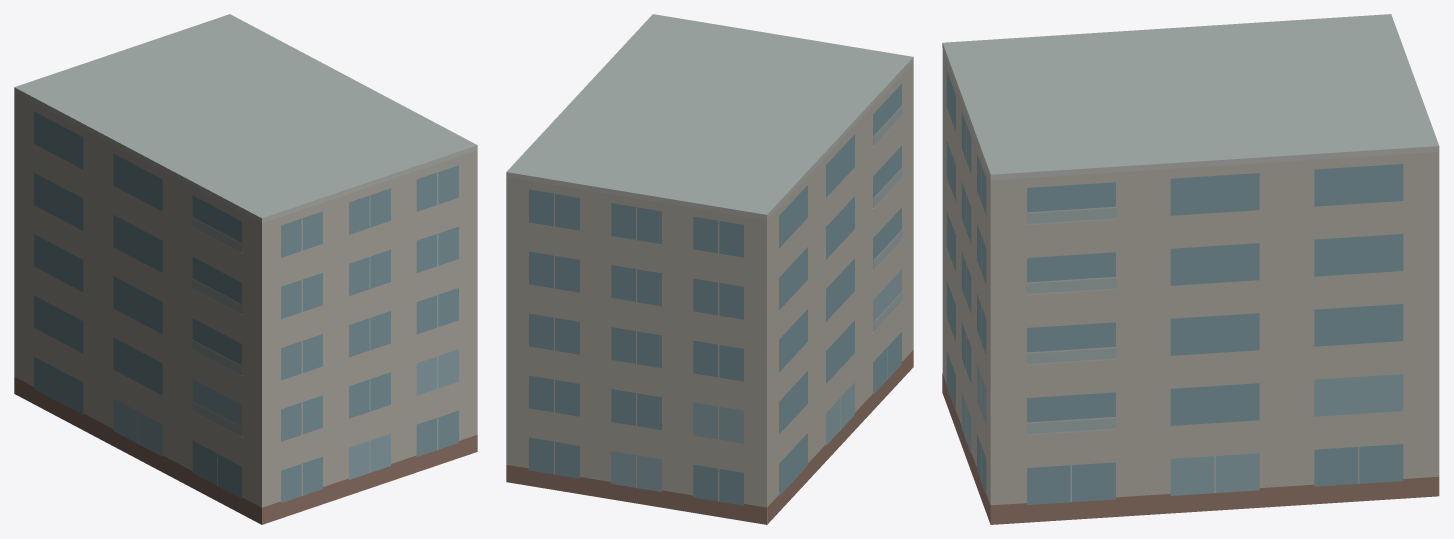
File: survey-upis-32763830.glb
3 renders of one model, left to right at view 1: azimuth 30°, elevation 25°; view 2: azimuth 150°, elevation 25°; view 3: azimuth 270°, elevation 25°, orthographic. The views are drawn at different scales.
Parts seen in each view (by area): view 1: survey-upis-32763830.tmp; view 2: survey-upis-32763830.tmp; view 3: survey-upis-32763830.tmp.
Boxes of the visible parts, x1,y1,x2,y2 form: survey-upis-32763830.tmp: (14,14,477,524); survey-upis-32763830.tmp: (506,14,913,524); survey-upis-32763830.tmp: (942,14,1439,524).
Size of the model in its own units: 15.02 by 15.25 by 19.62.
